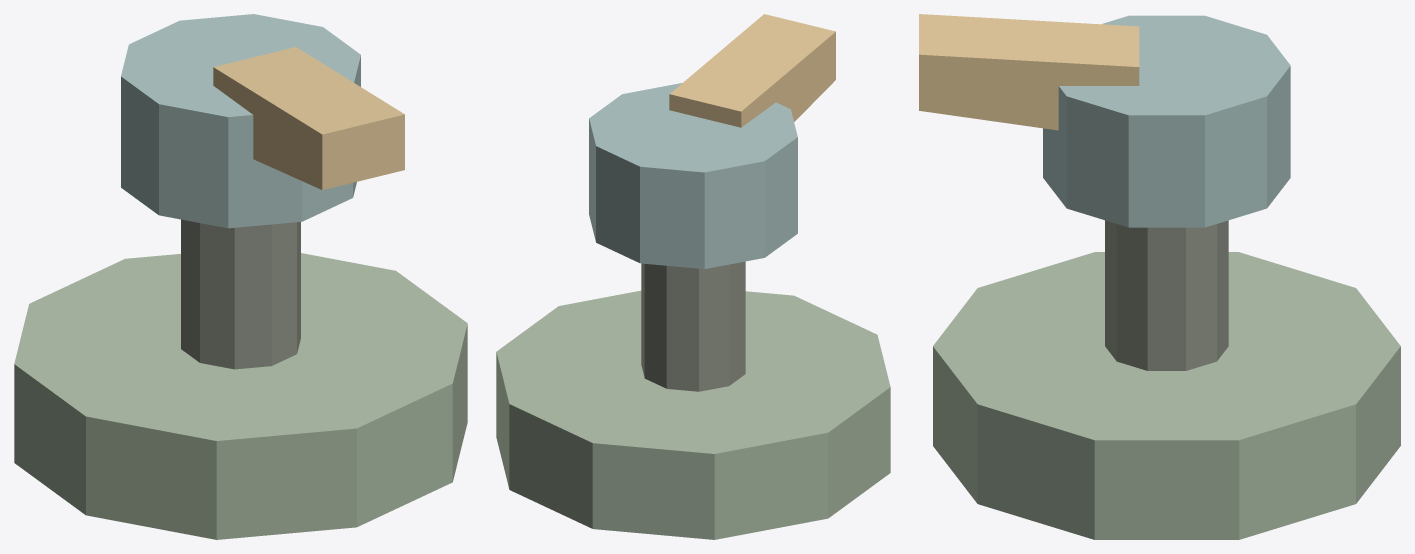
File: garden_sprinkler.fbx
3 renders of one model, left to right at view 1: azimuth 30°, elevation 25°; view 2: azimuth 150°, elevation 25°; view 3: azimuth 270°, elevation 25°, orthographic. The views are drawn at different scales.
Parts seen in each view (by area): view 1: garden_sprinkler_geometry, garden_sprinkler_geometry.001; view 2: garden_sprinkler_geometry, garden_sprinkler_geometry.001; view 3: garden_sprinkler_geometry, garden_sprinkler_geometry.001.
Boxes of the visible parts, x1,y1,x2,y2 form: garden_sprinkler_geometry: [14, 219, 467, 539]; garden_sprinkler_geometry.001: [121, 14, 404, 228]; garden_sprinkler_geometry: [496, 261, 890, 539]; garden_sprinkler_geometry.001: [589, 14, 835, 269]; garden_sprinkler_geometry: [933, 220, 1400, 539]; garden_sprinkler_geometry.001: [919, 14, 1290, 227].
Size of the model in its own units: 0.3234 by 0.33 by 0.35.
